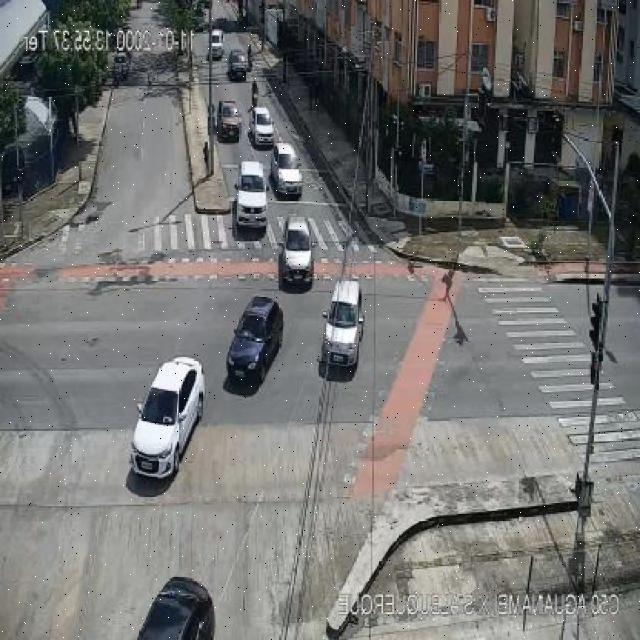Car: (131, 578, 216, 639), (226, 296, 283, 384), (319, 279, 364, 372), (235, 161, 269, 228), (280, 218, 314, 285), (270, 142, 302, 198), (216, 99, 242, 141), (249, 105, 275, 146), (227, 50, 249, 80), (113, 52, 130, 80)
Truck: (129, 358, 205, 480)
Van: (208, 29, 224, 60)
